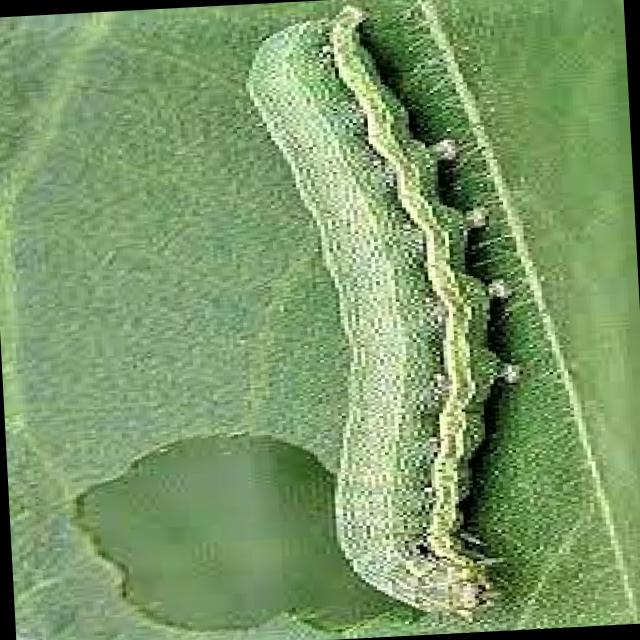Armyworm: (225, 1, 552, 640)
Armyworm_damage: (38, 410, 371, 640)
